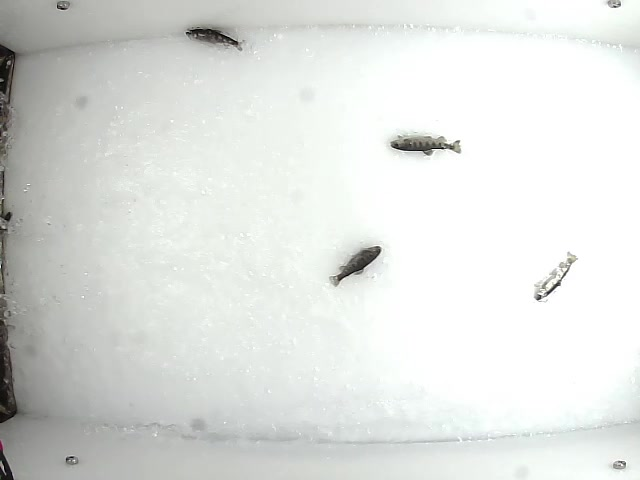fish: (329, 244, 384, 291), (530, 250, 579, 302), (387, 132, 463, 158), (184, 27, 245, 54)
